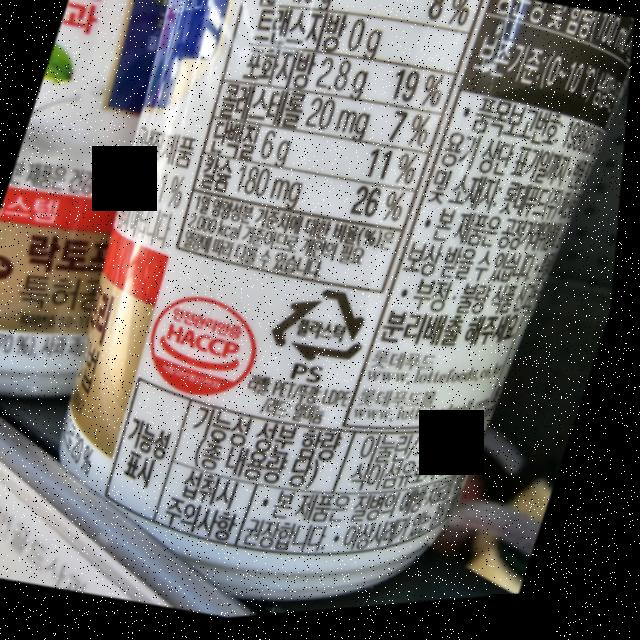Plastic: (267, 279, 387, 381)
